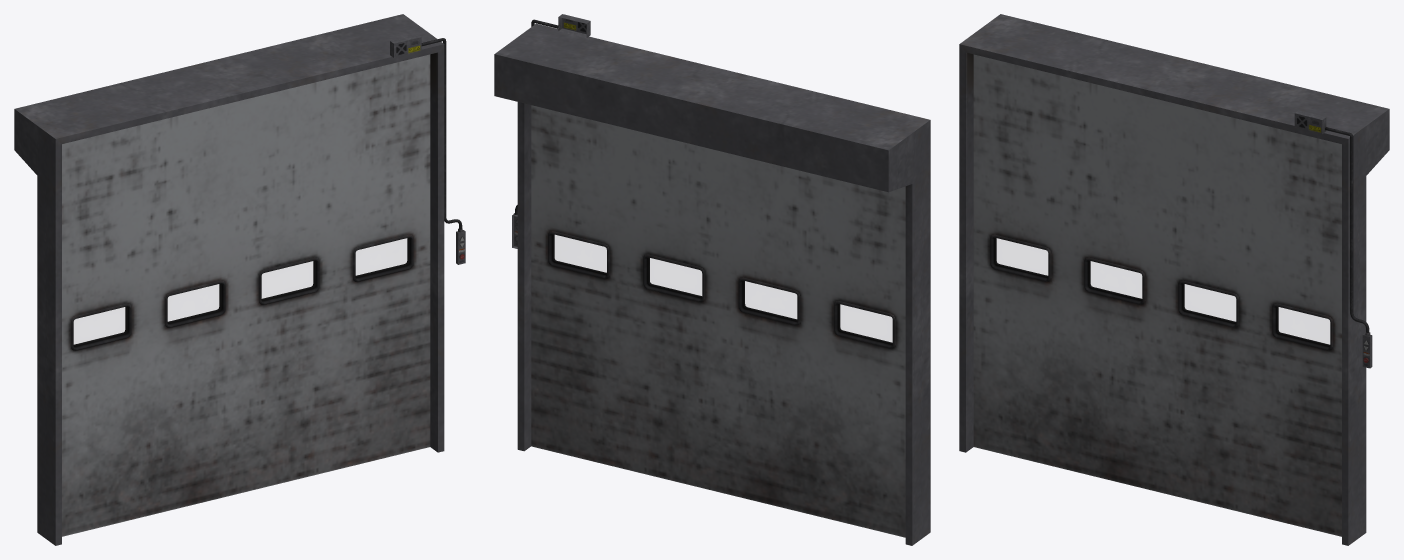
Rendered from Rollup Door 7.glb.
The picture shows the model from 3 angles, left to right: view 1: azimuth 30°, elevation 25°; view 2: azimuth 150°, elevation 25°; view 3: azimuth 330°, elevation 25°; orthographic projection.
Visible parts, largest first — view 1: Rollup_Door_7_Door, Rollup_Door_7_Door_Frame, Rollup_Door_7_Control_Switch; view 2: Rollup_Door_7_Door, Rollup_Door_7_Door_Frame, Rollup_Door_7_Control_Switch; view 3: Rollup_Door_7_Door, Rollup_Door_7_Door_Frame, Rollup_Door_7_Control_Switch.
Part boxes in pixels (x1,y1,x2,y2): Rollup_Door_7_Door: [62, 54, 430, 536]; Rollup_Door_7_Door_Frame: [14, 14, 444, 545]; Rollup_Door_7_Control_Switch: [390, 34, 465, 264]; Rollup_Door_7_Door: [531, 105, 905, 537]; Rollup_Door_7_Door_Frame: [494, 23, 930, 545]; Rollup_Door_7_Control_Switch: [512, 14, 590, 248]; Rollup_Door_7_Door: [973, 54, 1341, 536]; Rollup_Door_7_Door_Frame: [959, 14, 1389, 545]; Rollup_Door_7_Control_Switch: [1294, 110, 1372, 368].
Size of the model in its own units: 3.17 by 3.1 by 0.5721.
2 materials, 2 textured.
